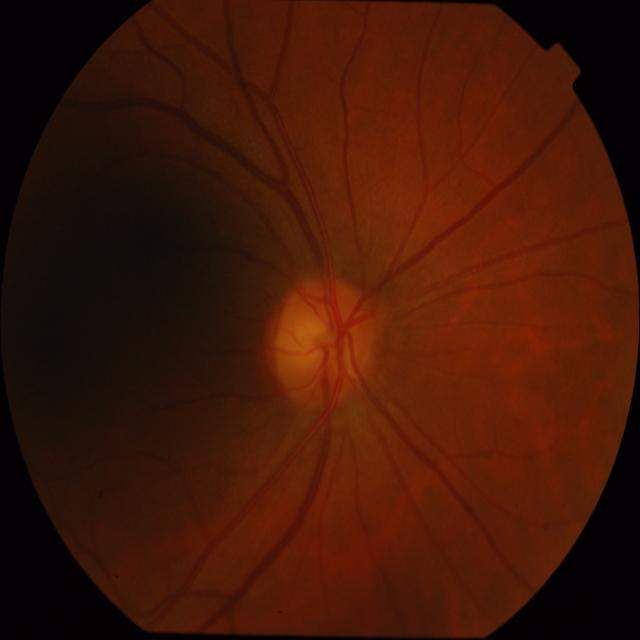OC: (290, 317, 358, 380)
OD: (273, 275, 377, 409)
